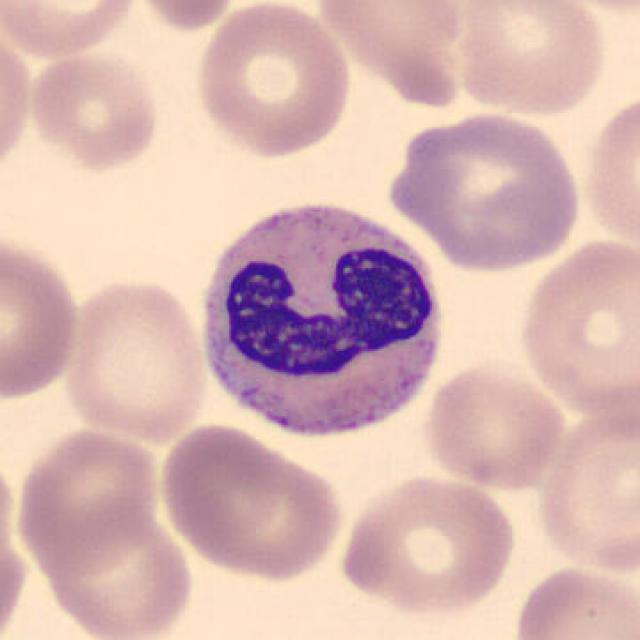Neutrophil: (189, 185, 455, 451)
RBC: (382, 108, 587, 275), (151, 422, 349, 586), (334, 471, 519, 619), (190, 0, 355, 160), (57, 273, 211, 443), (31, 500, 197, 640), (514, 233, 638, 418), (13, 425, 164, 573), (448, 0, 613, 120), (421, 360, 569, 492), (532, 398, 638, 578), (313, 0, 475, 111), (25, 46, 163, 174), (0, 231, 85, 402), (510, 560, 640, 640), (578, 86, 638, 258), (0, 0, 142, 62), (0, 18, 36, 183), (0, 444, 23, 626), (126, 0, 247, 33)
